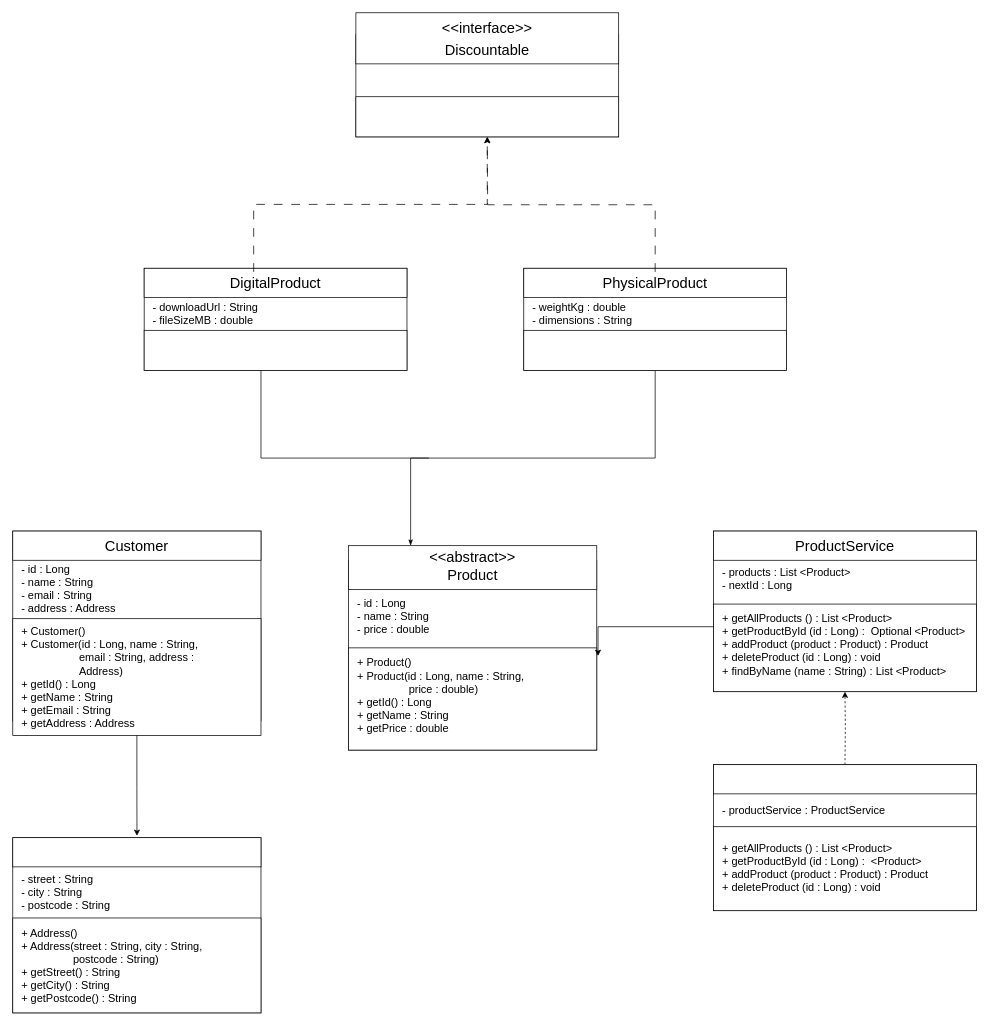
Image size: 1004x1026. Some labels were removed from this diagram. The centre of each missing label's shape, as x and y in pixels:
+ getDownloadUrl () : String + getFileSizeMB () : double: point (275, 350)
+ getWeightKg () : double + getDimensions () : String: point (655, 350)
+applyDiscount(double rate) : void +getDiscountedPrice() : double: point (487, 116)
Address: point (136, 852)
ProductController: point (844, 779)
